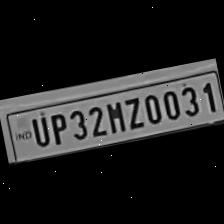0: (138, 89, 164, 126), (157, 86, 182, 122)
1: (197, 78, 221, 114)
2: (83, 102, 108, 140)
3: (63, 105, 88, 143), (176, 82, 200, 120)
M: (101, 97, 127, 136)
P: (44, 110, 70, 148)
U: (24, 113, 50, 150)
Z: (119, 92, 146, 132)
